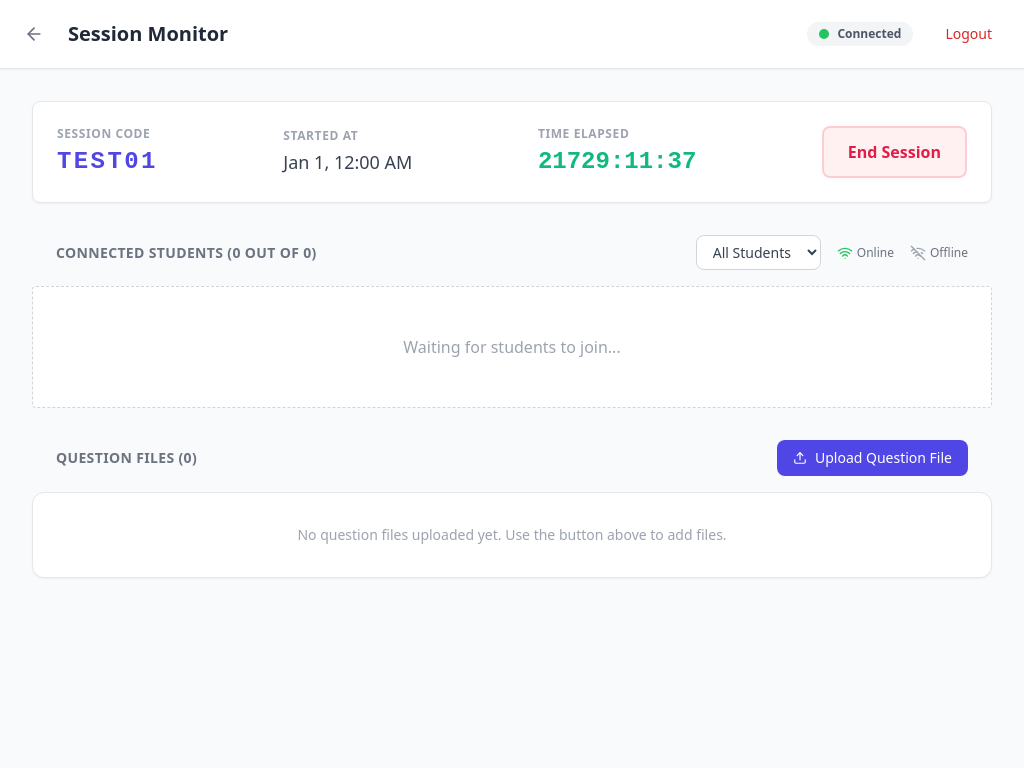
it: SessionDetail › should show confirmation modal when End Session is clicked
This screenshot has width=1024, height=768.
Step 1. Click the button "End Session" → (894, 152), box 822,126 -> 967,178
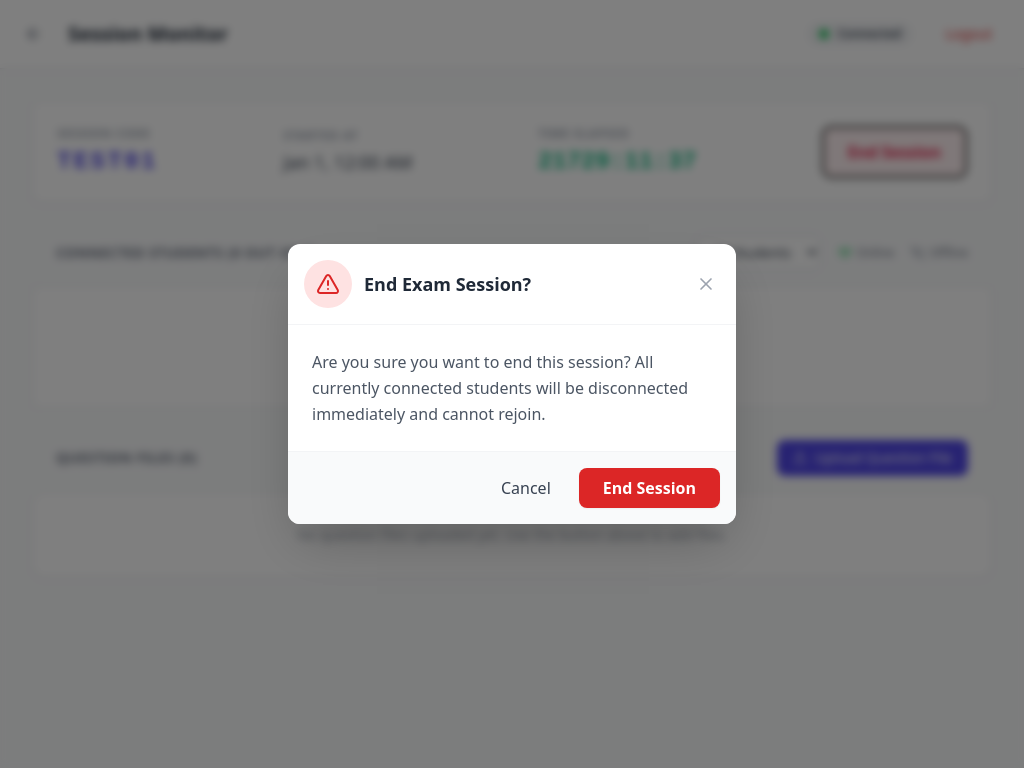
Now the text "End Exam Session?" is shown, box 364,272 -> 531,296
